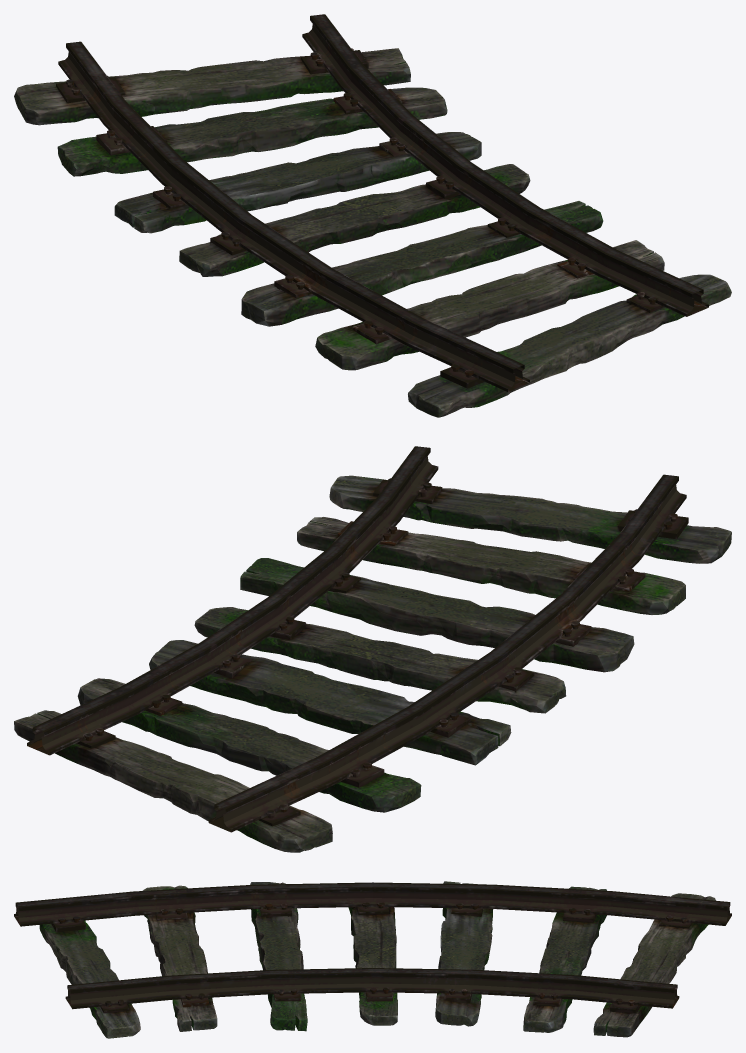
The model's file is RailwayBent.fbx.
The picture shows the model from 3 angles, top to bottom: view 1: azimuth 30°, elevation 25°; view 2: azimuth 150°, elevation 25°; view 3: azimuth 270°, elevation 25°; orthographic projection. The views are drawn at different scales.
Visible parts, largest first — view 1: RailwayBent_LOD0; view 2: RailwayBent_LOD0; view 3: RailwayBent_LOD0.
Boxes of the visible parts, x1,y1,x2,y2 form: RailwayBent_LOD0: (14,14,731,417); RailwayBent_LOD0: (14,446,731,852); RailwayBent_LOD0: (14,881,731,1038).
Size of what is drawn, in the model's own units: 2.34 by 4.77 by 0.2634.
